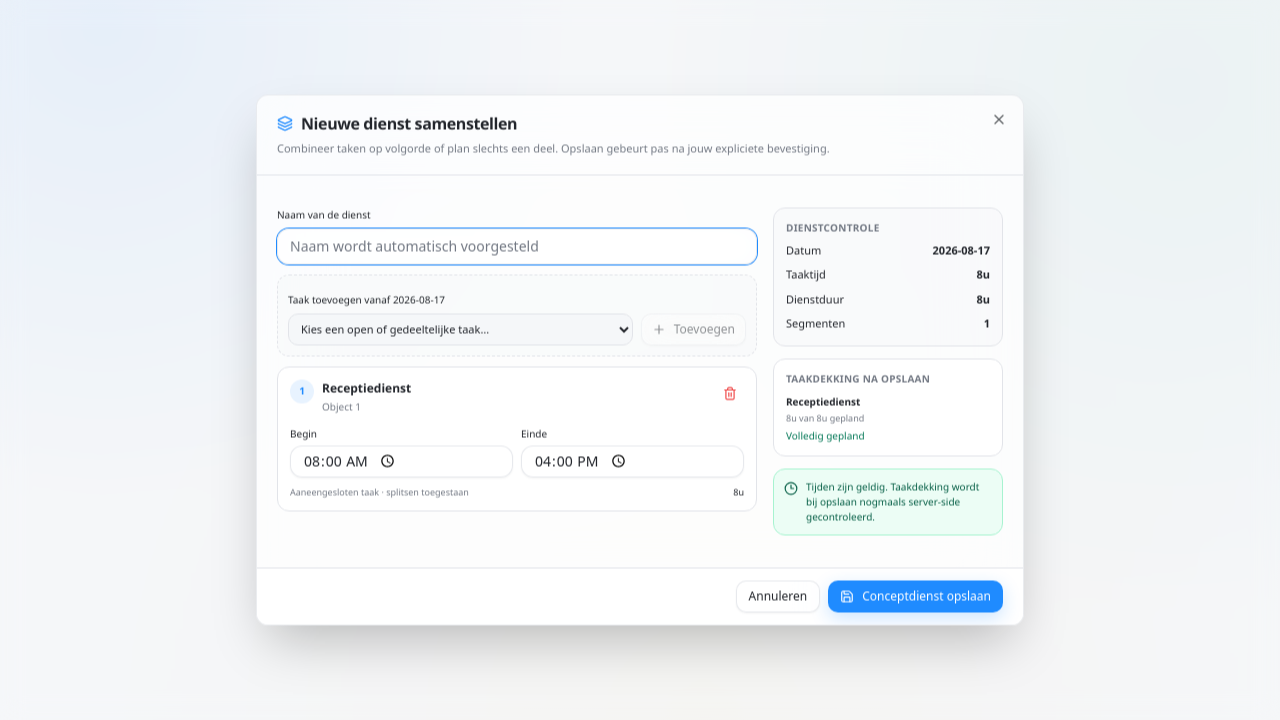
Test: Planning dienstcomposer › toont exact welk taakdeel na een gesplitste dienst resteert
Replace the text in the time field labelled "Einde" with "12:00" at point(632, 461), box [521,445,744,477]
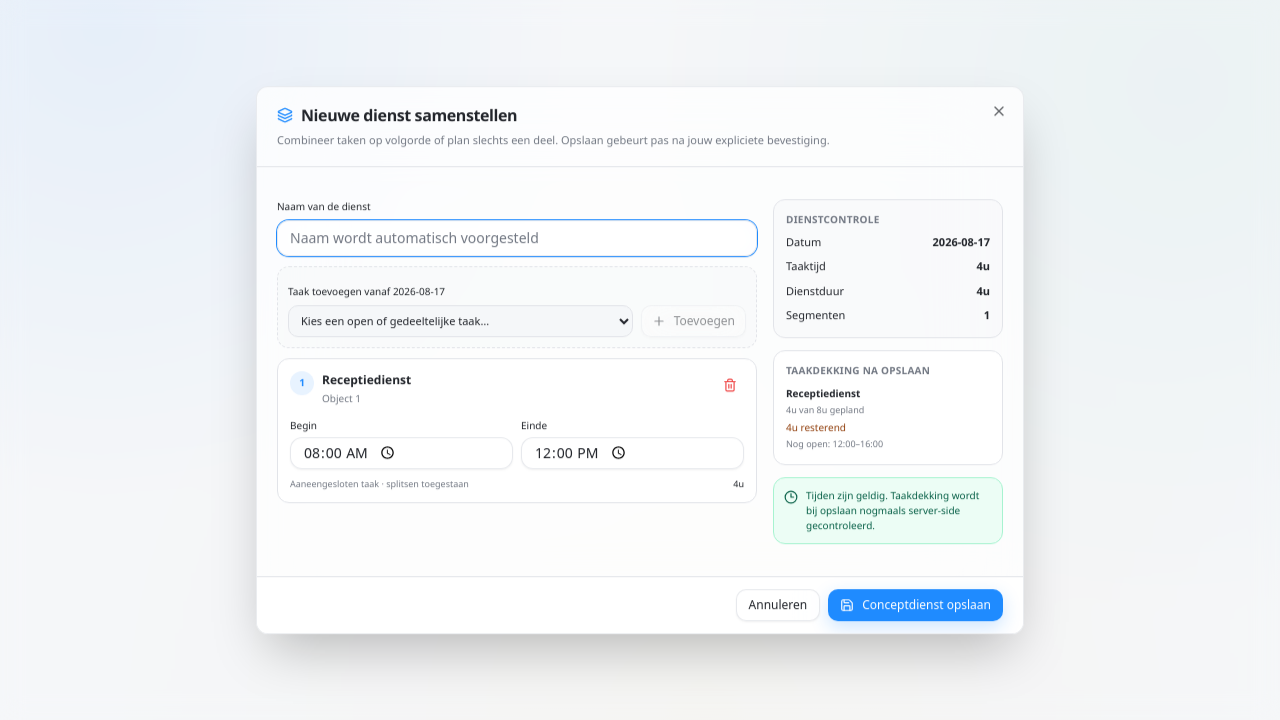
Expected: the text "4u resterend" is shown, [786,420,846,434]
Expected: the text "Nog open: 12:00–16:00" is shown, [786,437,883,450]
